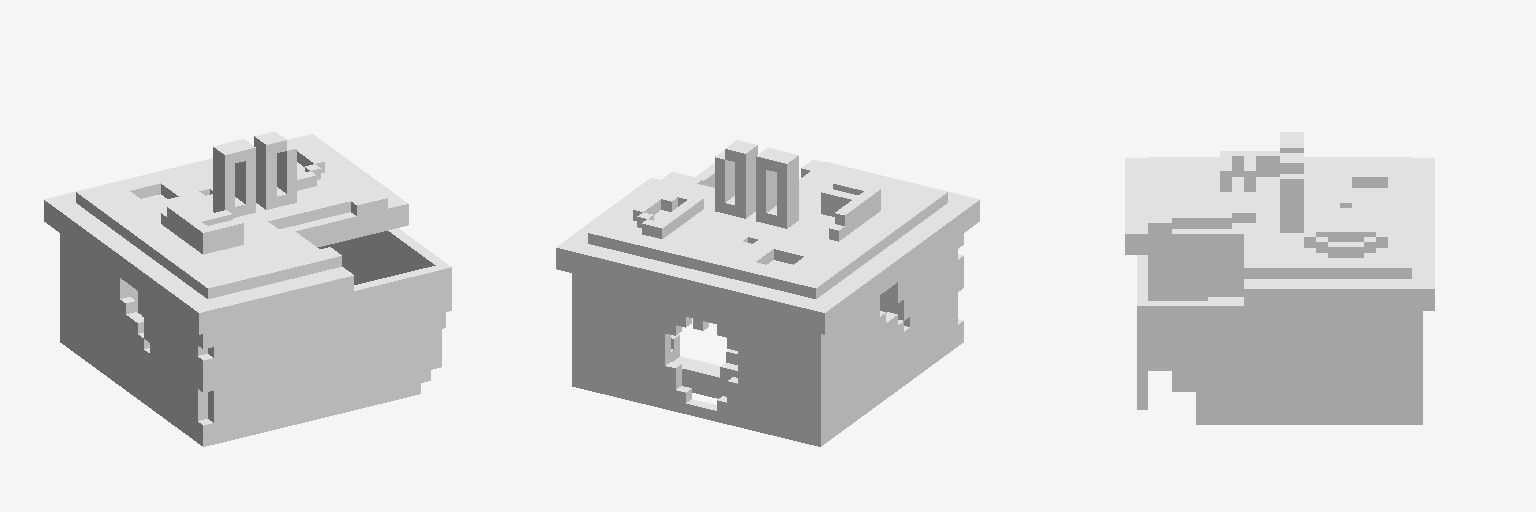
File: FoodHutBroken.obj
3 views of the same model, side by side, from view 1: azimuth 30°, elevation 25°; view 2: azimuth 150°, elevation 25°; view 3: azimuth 270°, elevation 25° (orthographic).
Parts seen in each view (by area): view 1: FoodHutBroken; view 2: FoodHutBroken; view 3: FoodHutBroken.
Boxes of the visible parts, x1,y1,x2,y2 form: FoodHutBroken: [44, 131, 451, 446]; FoodHutBroken: [556, 140, 979, 446]; FoodHutBroken: [1125, 132, 1434, 424].
Bounding box in the file's own units: 26 × 20 × 26.